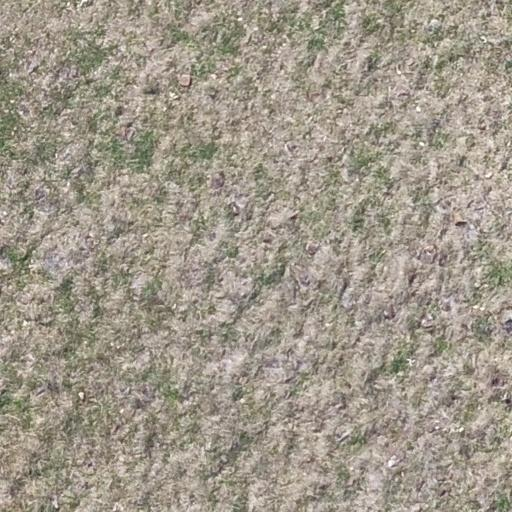stone: (178, 74, 194, 88), (376, 436, 390, 447), (78, 392, 87, 401)
